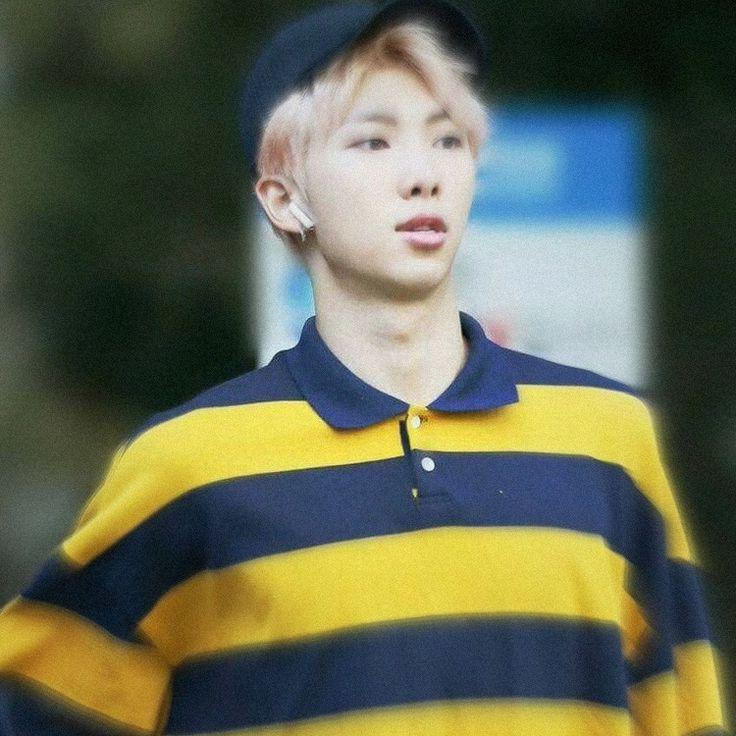earphone: (280, 195, 316, 229)
